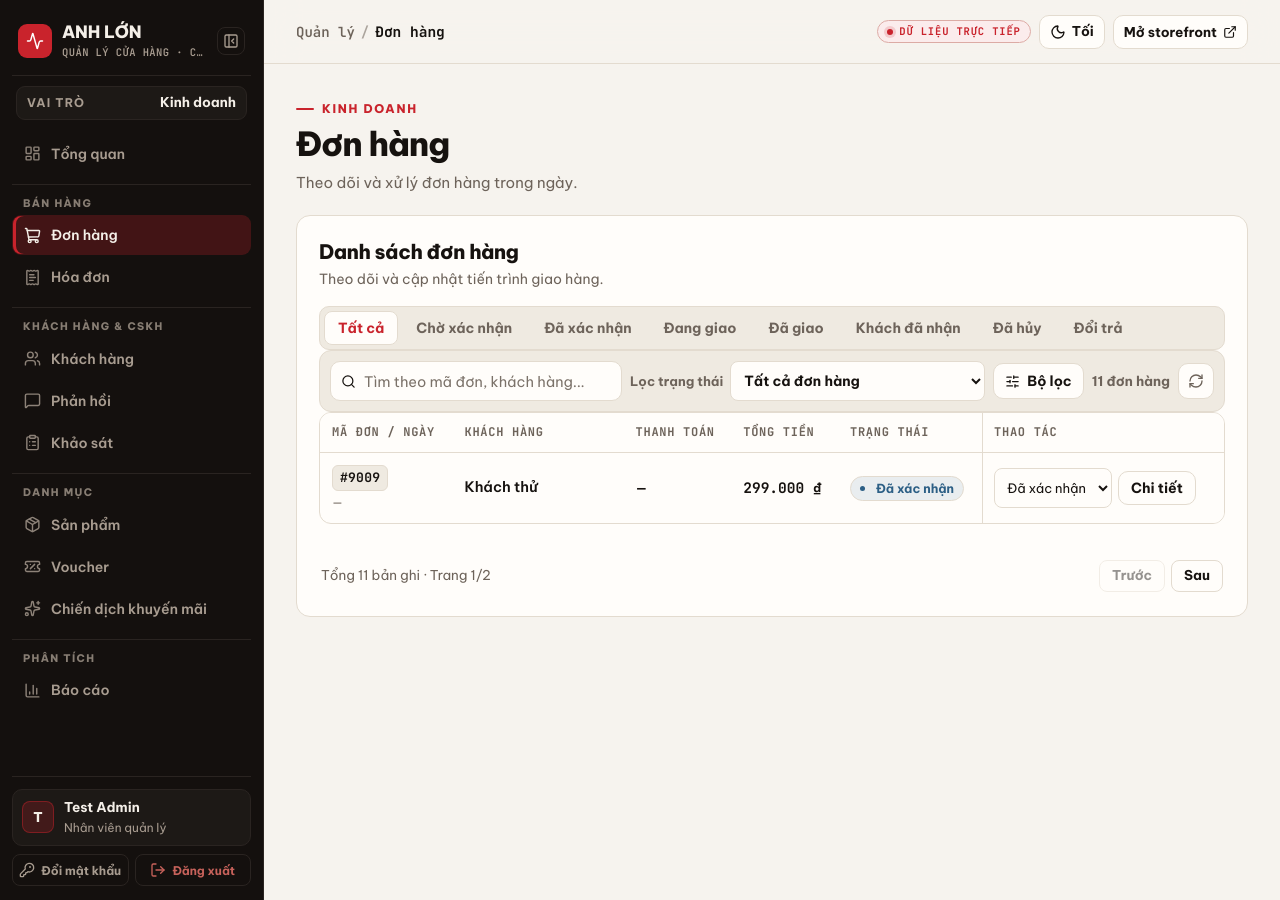
manager navigation › filters orders, pages and loads details from real manager endpoints
Expected: the text "#9009" is shown, [332,465,388,491]
Select "Đã xác nhận" in the dropdown labelled "Lọc trạng thái" at (858, 381), box [730,361,985,401]
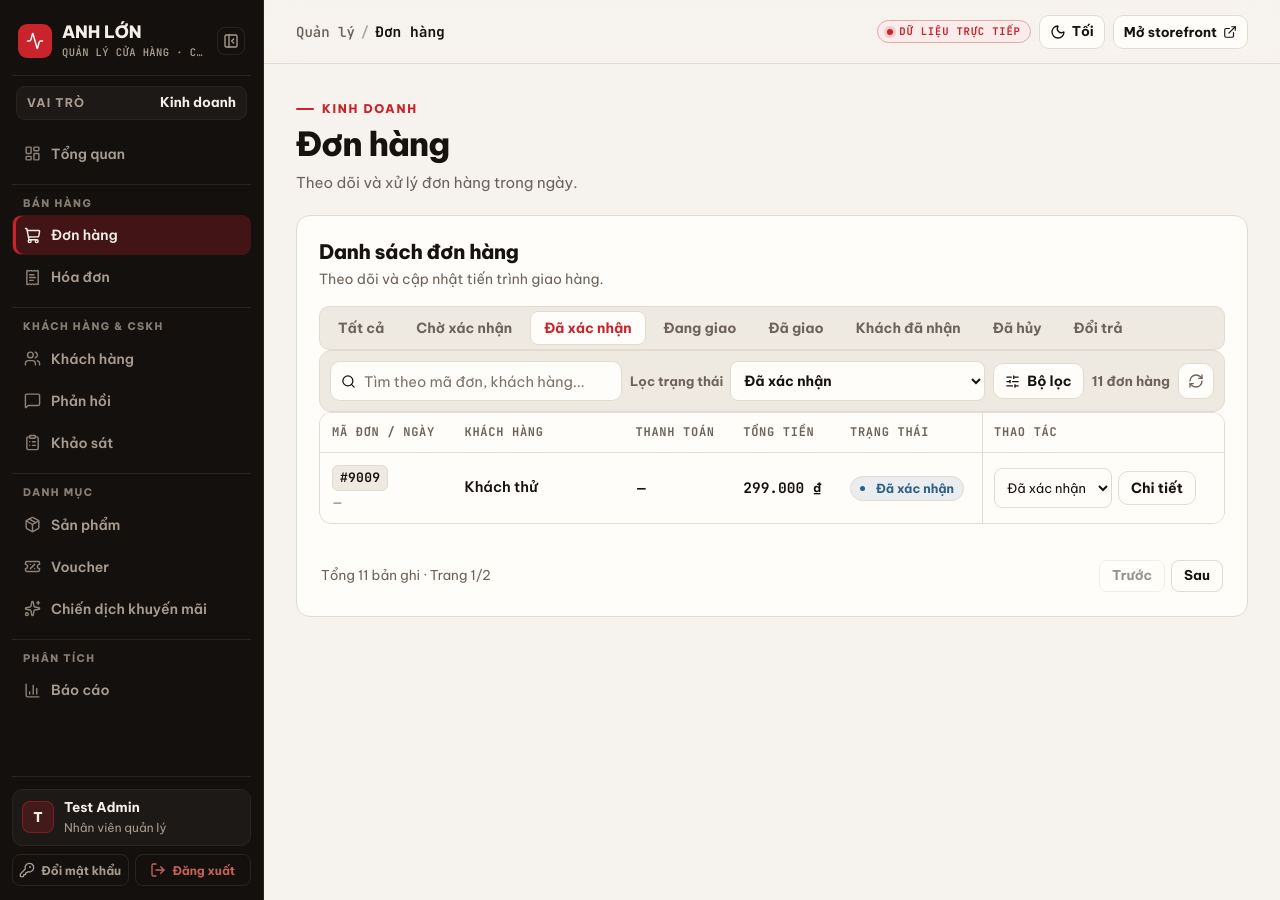
Click the button "Sau" at (1197, 576), box [1171,560,1223,592]
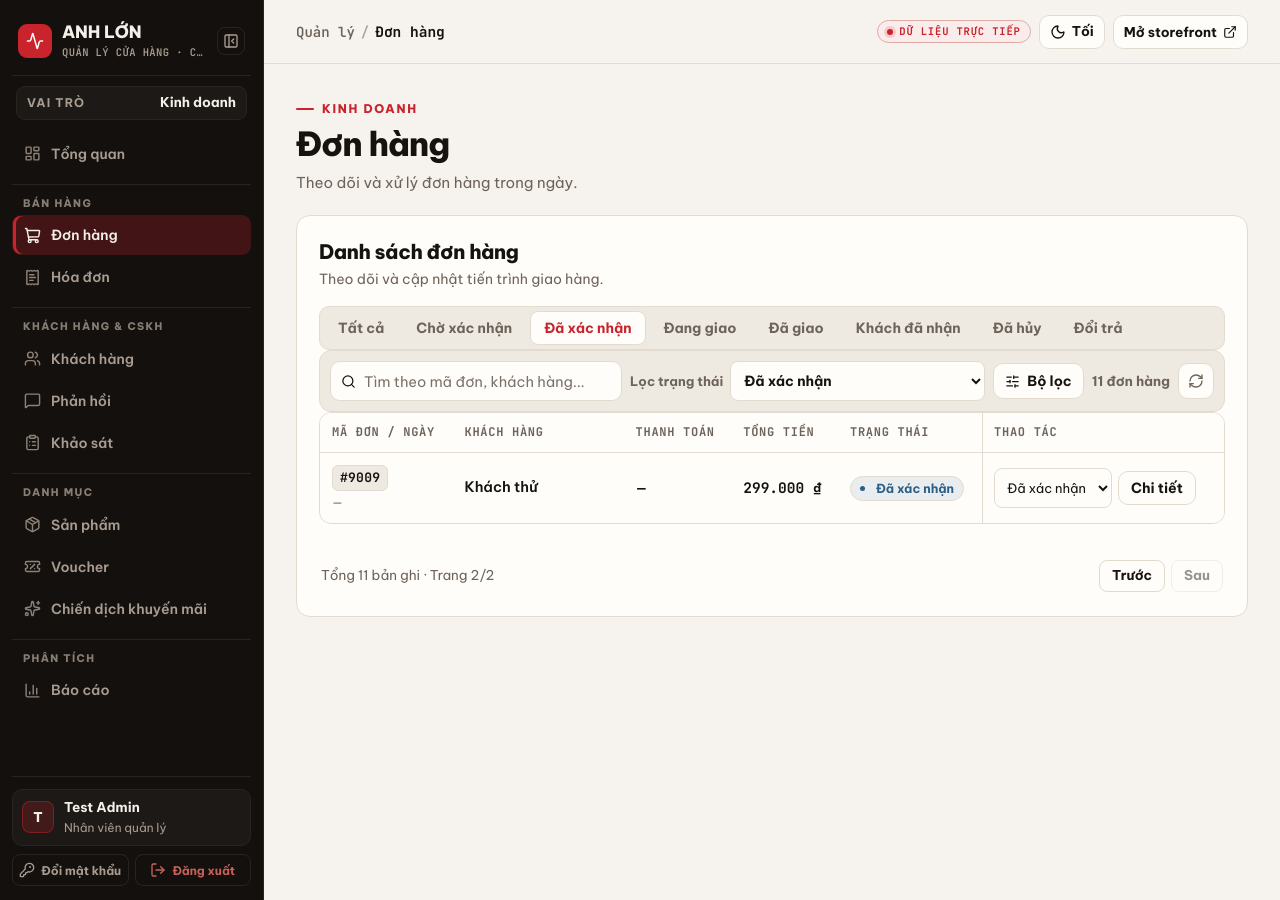
Click the button "Chi tiết" at (1157, 488), box [1118,471,1196,505]
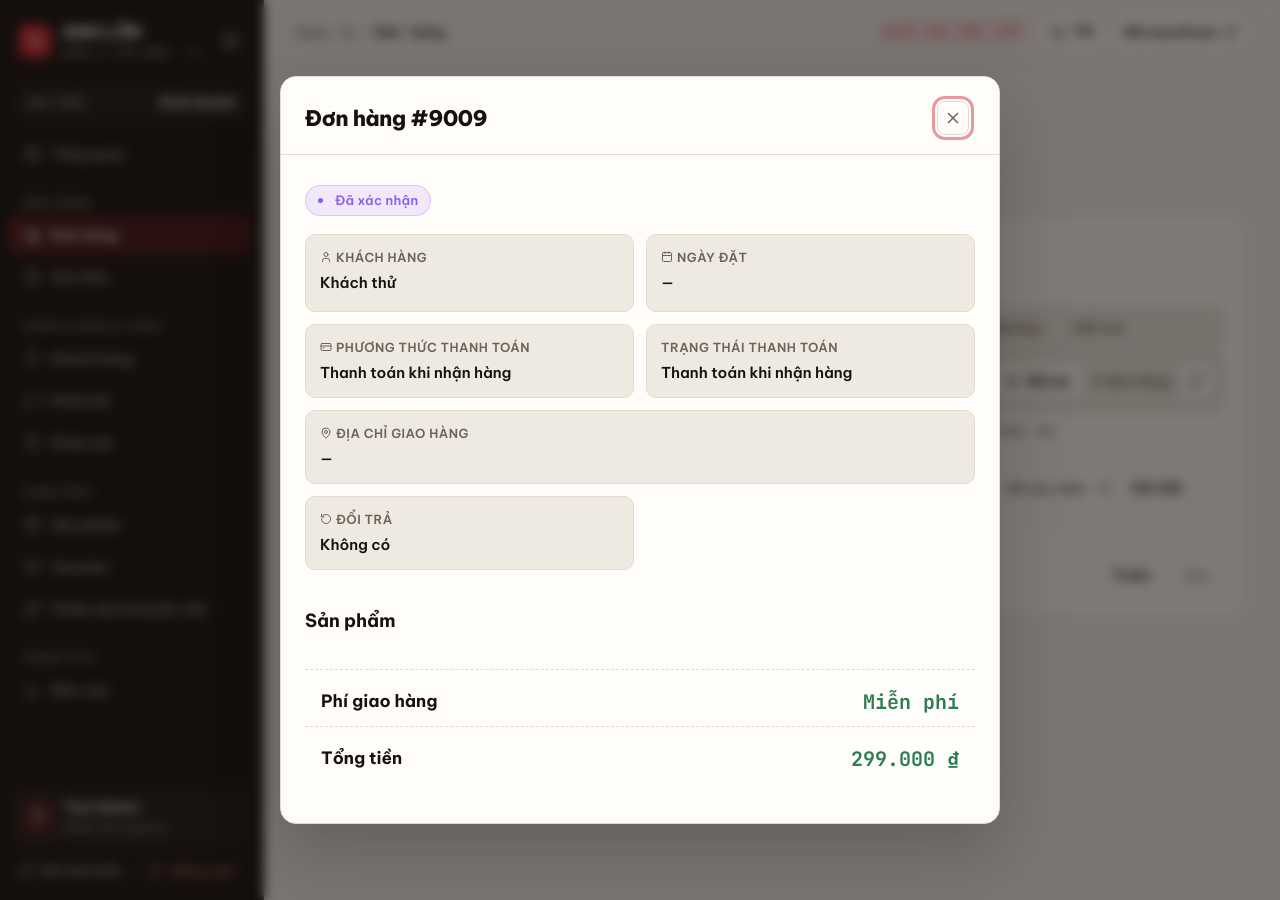
Expected: the dialog is shown, [280,76,1000,824]
Expected: the dialog shows "Thanh toán khi nhận hàng", [320,362,511,382]
